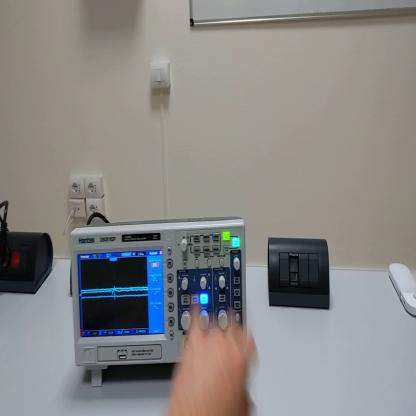hand: (169, 302, 260, 415)
oscilloscope: (72, 214, 245, 395)
socket: (1, 230, 55, 294)
